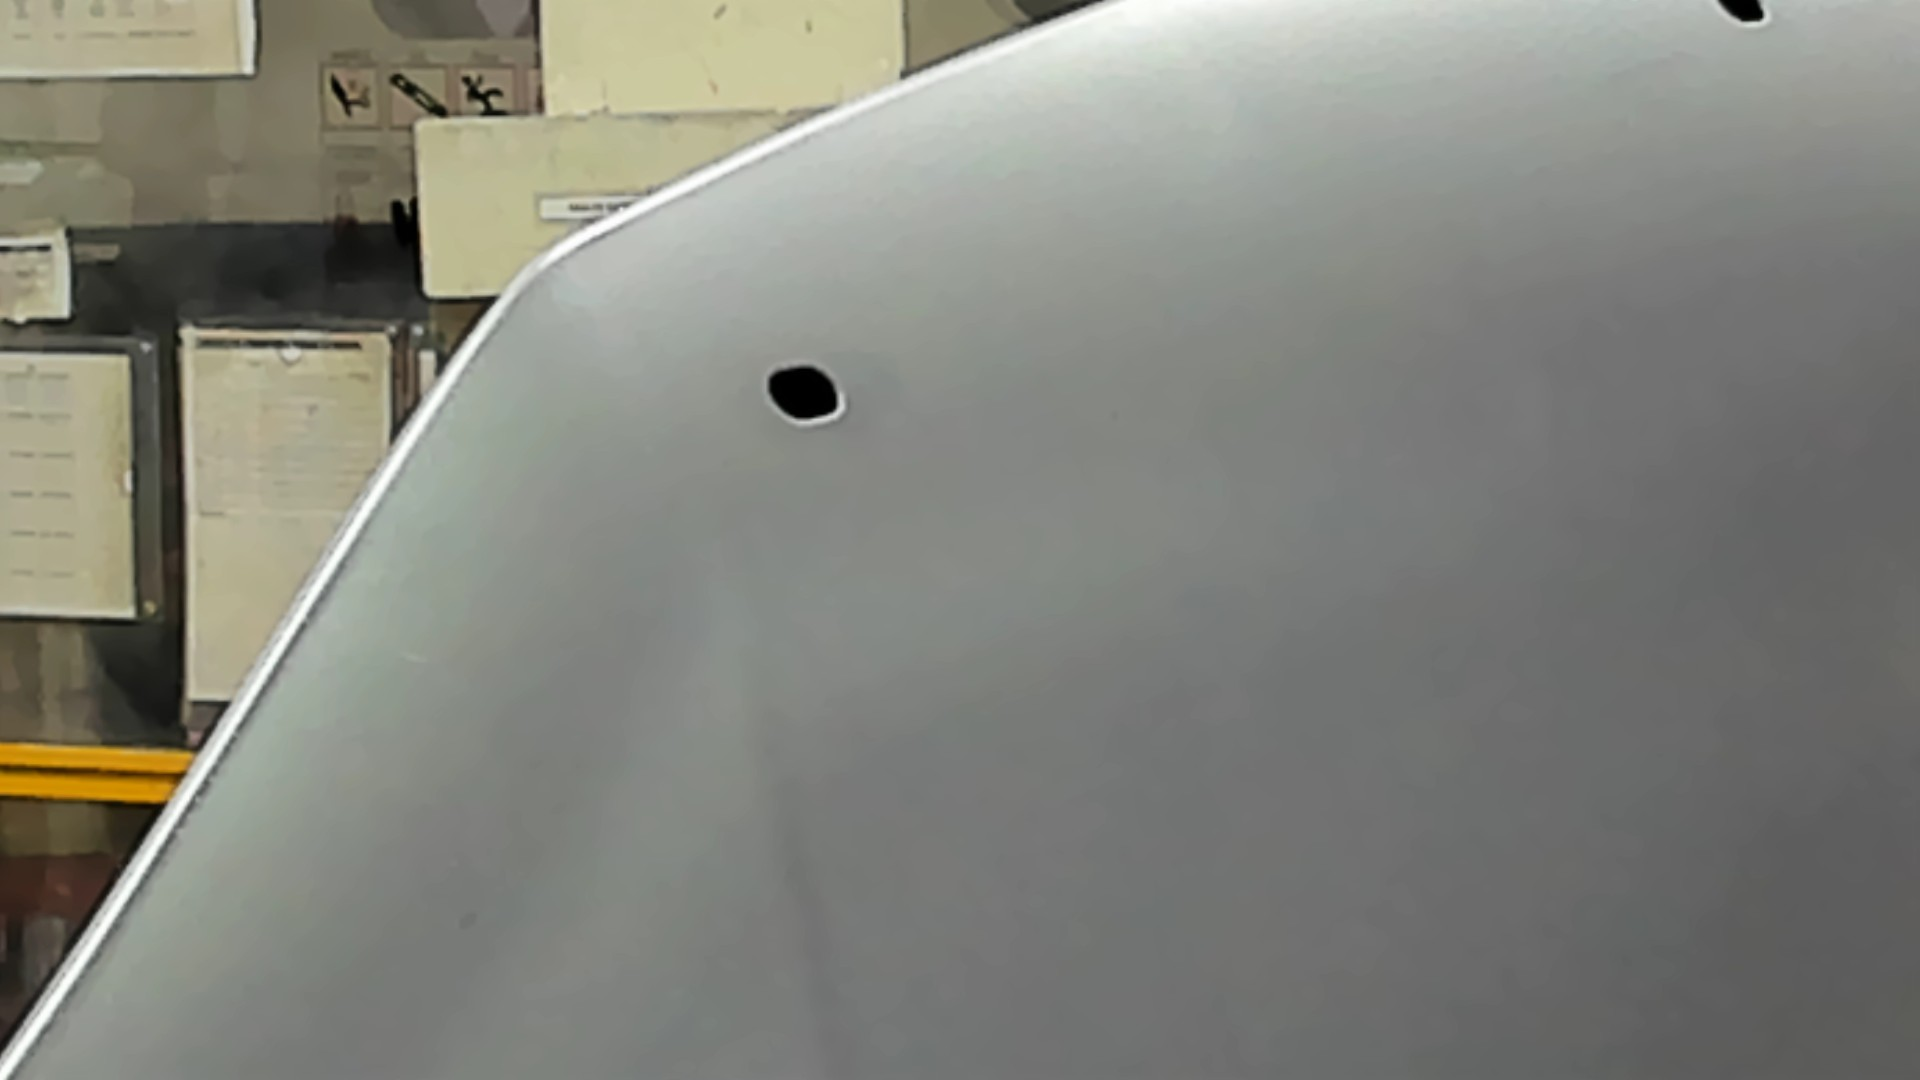amorfo: (760, 361, 855, 429), (1714, 1, 1778, 32)
capo: (930, 100, 1920, 1080)
